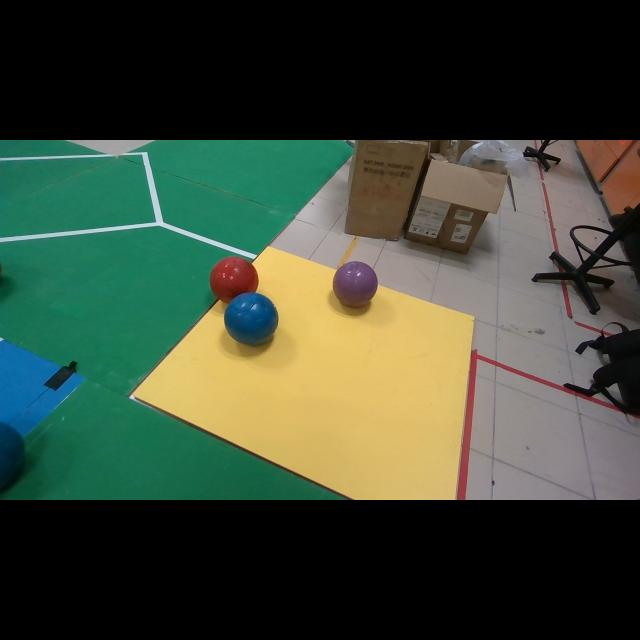B: (224, 292, 279, 345)
P: (332, 261, 378, 308)
R: (210, 256, 259, 302)
